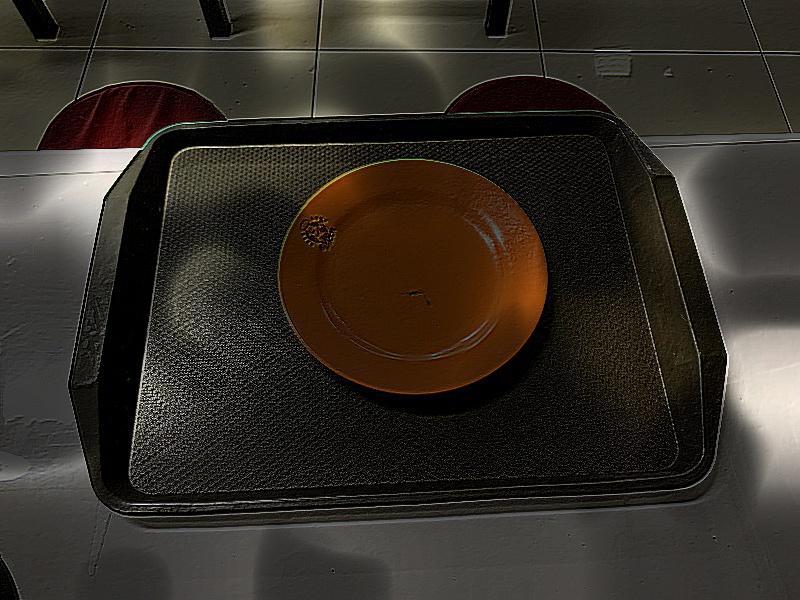dish10: (273, 155, 557, 403)
